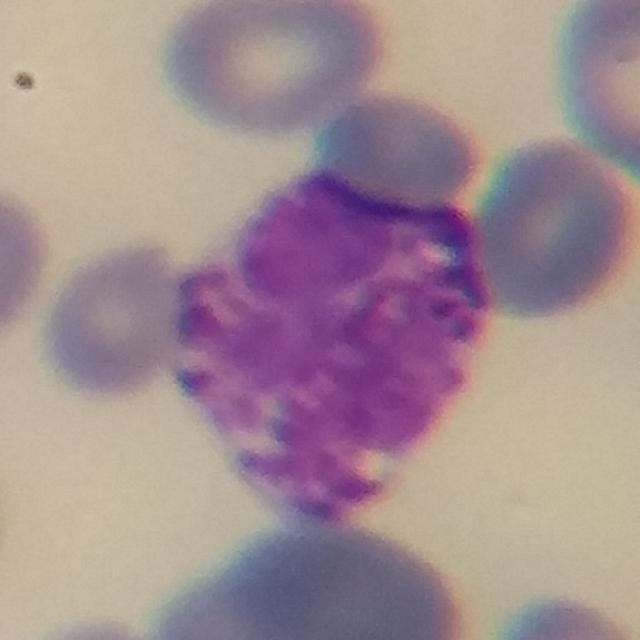baso: (174, 166, 490, 546)
